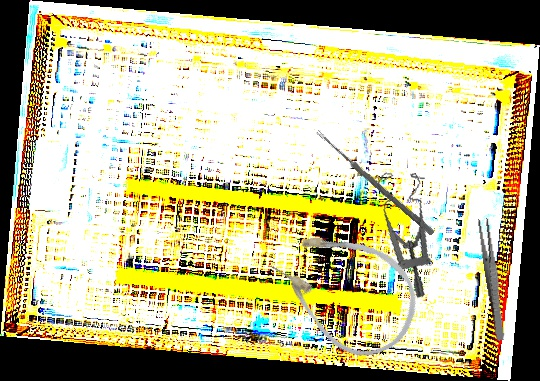Cannula: (255, 204, 437, 375)
Dressing Forceps: (476, 217, 509, 342)
Speculum: (355, 165, 450, 300)
Surgical Spoon: (314, 129, 436, 236)
